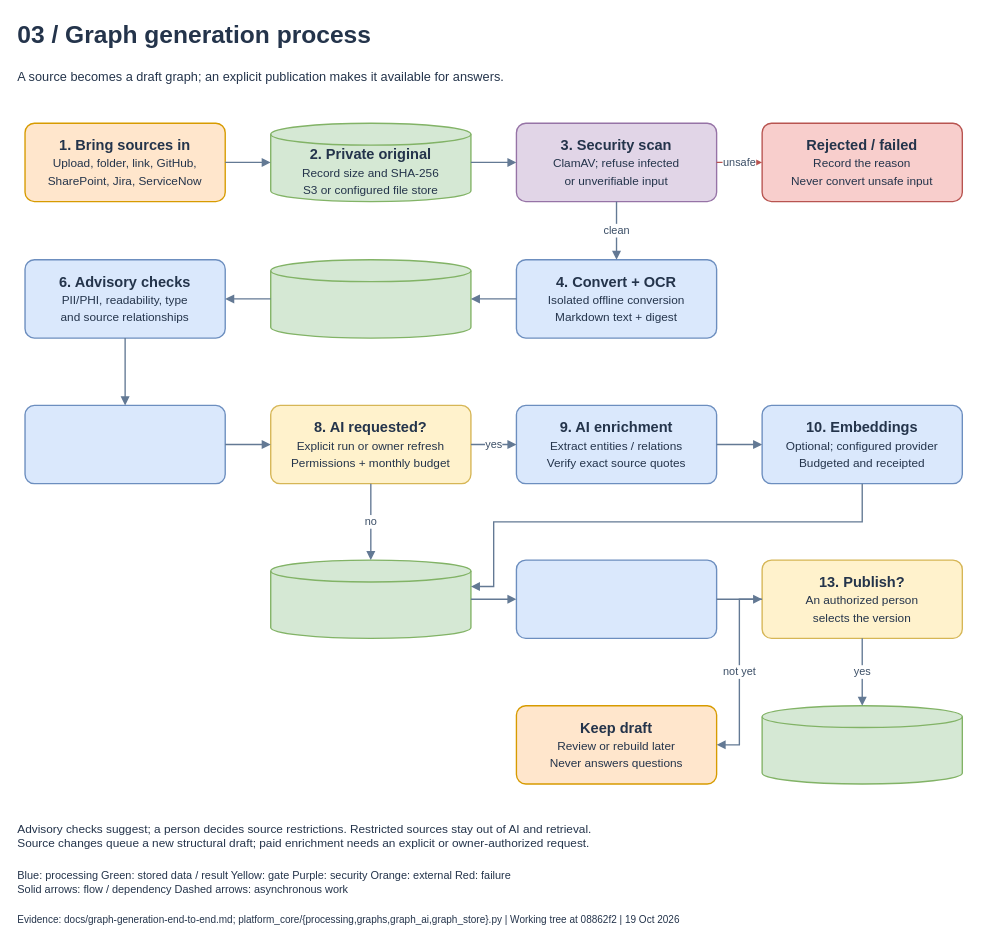
The diagram is 986 pixels wide and 945 high, and some of its shapes have lost their labels. Each missing label, with the box of its shape:
11. Draft version GraphRevision snapshot GraphElement version ranges: (270, 559, 471, 639)
12. Measure + review Benchmark + graph health Reviewer inspects quality: (515, 559, 717, 639)
5. Knowledge record Immutable source revision chunks + source identity: (270, 259, 471, 338)
7. Structural graph Automatic, no model call Reuse verified unchanged AI: (24, 404, 225, 484)
Published graph Available to graph answers and workflow evidence: (761, 705, 963, 784)
